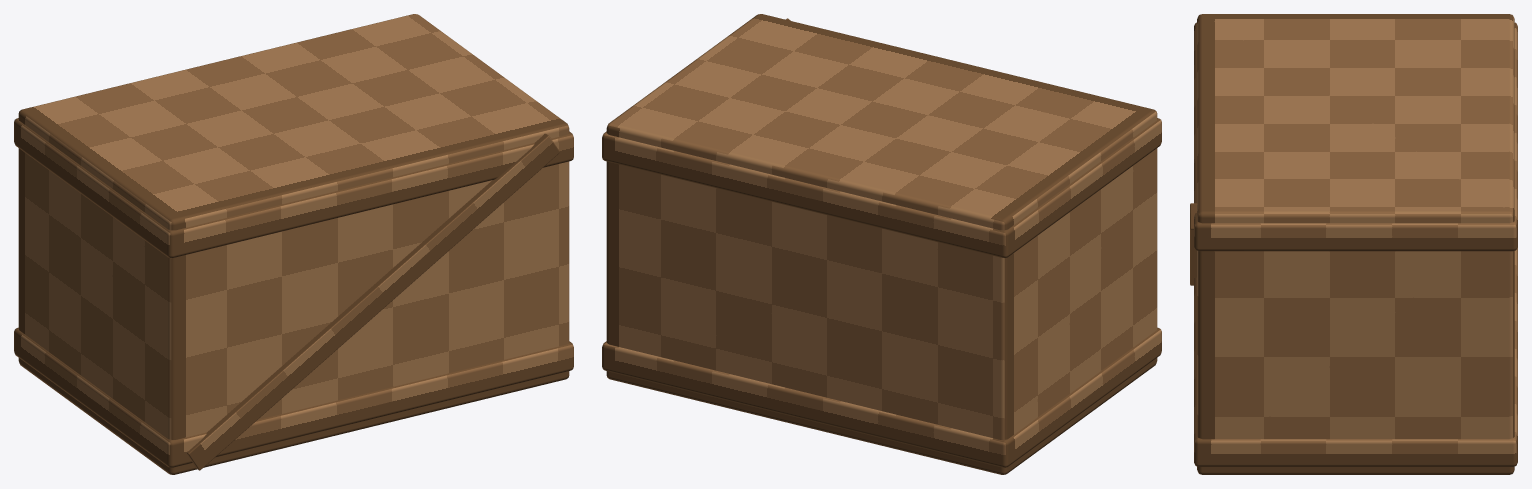
File: crate_v2.glb
3 renders of one model, left to right at view 1: azimuth 30°, elevation 25°; view 2: azimuth 150°, elevation 25°; view 3: azimuth 270°, elevation 25°, orthographic. The views are drawn at different scales.
Parts seen in each view (by area): view 1: dyn_wood_variant; view 2: dyn_wood_variant; view 3: dyn_wood_variant.
Boxes of the visible parts, box(x1,y1,x2,y2) form: dyn_wood_variant: box(14, 14, 573, 474); dyn_wood_variant: box(602, 14, 1161, 474); dyn_wood_variant: box(1190, 14, 1517, 474).
Size of the model in its own units: 0.9127 by 0.5501 by 0.6197.
1 material, 1 textured.
